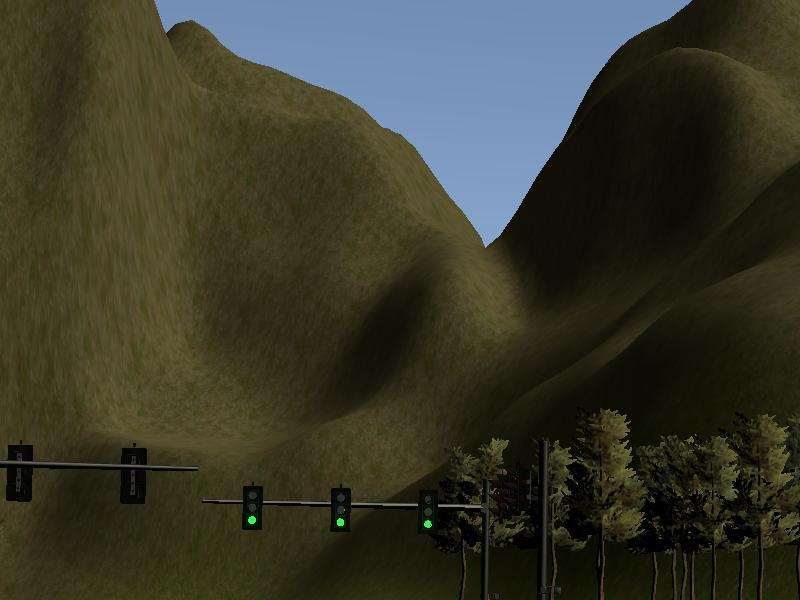Green: (330, 488, 351, 530), (244, 487, 263, 531), (419, 491, 437, 533)
